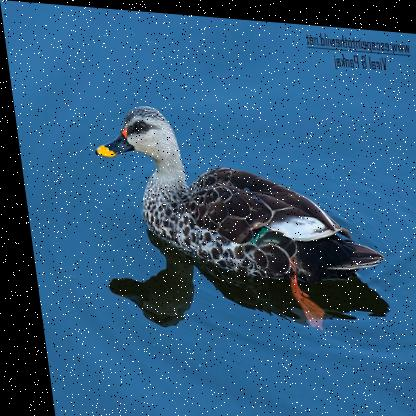Burung: (85, 98, 383, 287)
